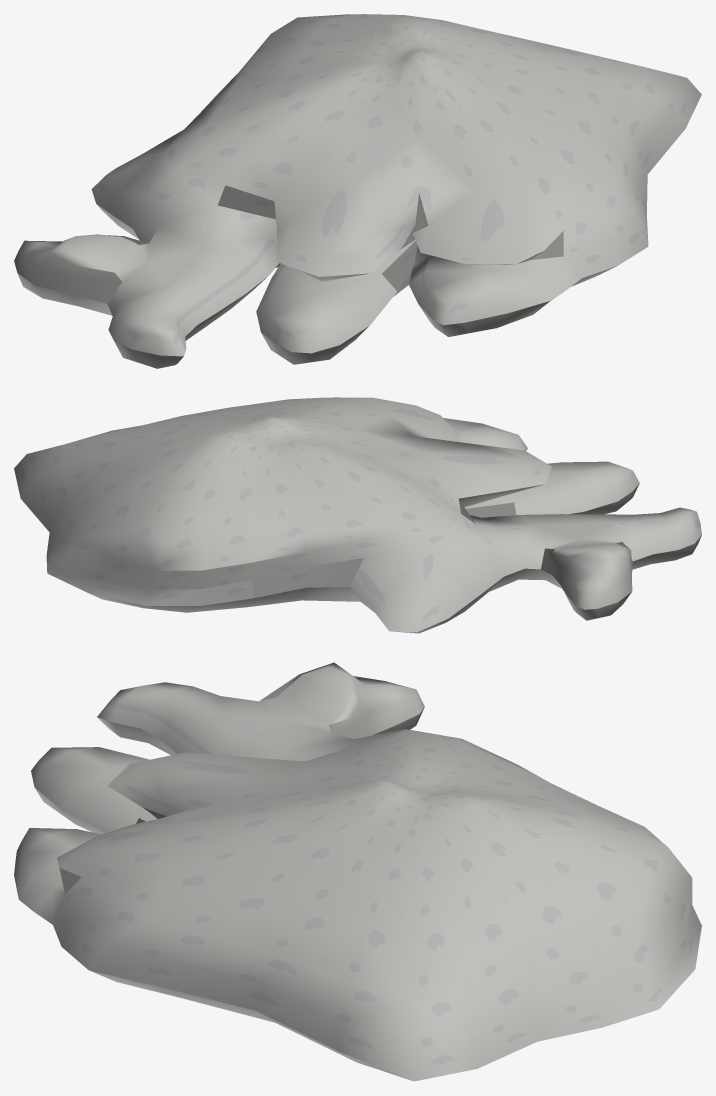
The model's file is pedra_tortuga.fbx.
3 renders of one model, top to bottom at view 1: azimuth 30°, elevation 25°; view 2: azimuth 150°, elevation 25°; view 3: azimuth 270°, elevation 25°, orthographic. The views are drawn at different scales.
Visible parts, largest first — view 1: Cube; view 2: Cube; view 3: Cube.
Boxes of the visible parts, bbox=[...] form: Cube: bbox=[14, 14, 701, 368]; Cube: bbox=[14, 397, 701, 633]; Cube: bbox=[14, 662, 701, 1081].
Bounding box in the file's own units: 8670 × 1689 × 6572.
Materials: 1 (1 with a texture image).
